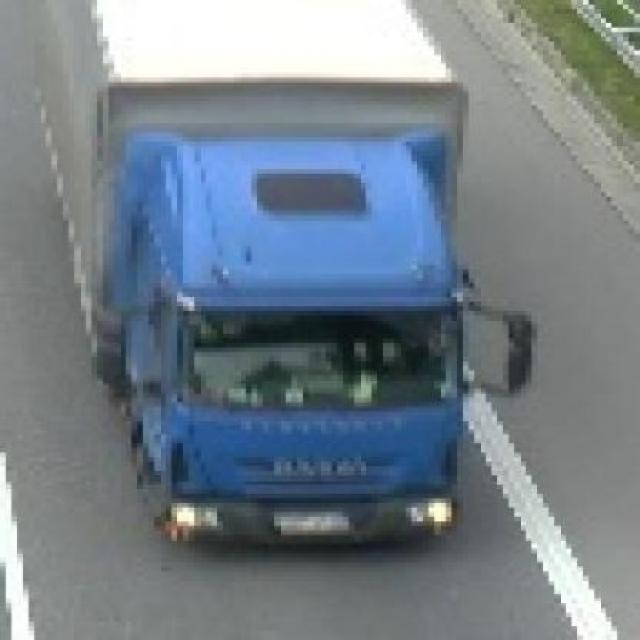truck: (30, 1, 527, 550)
